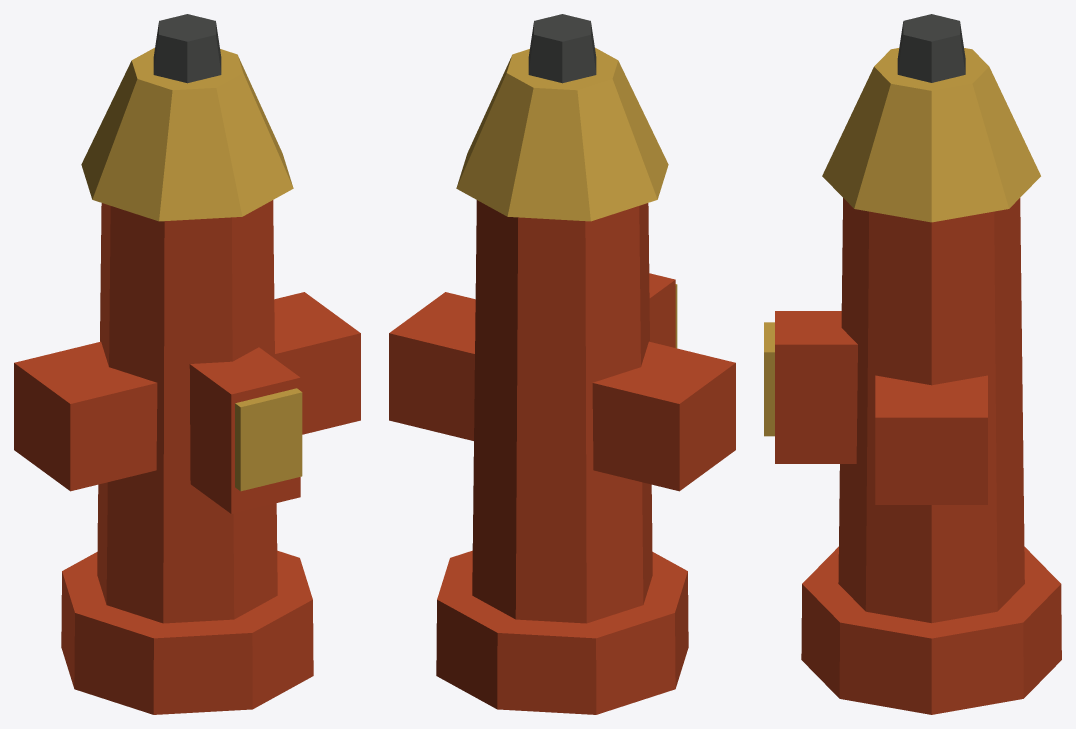
The model's file is hydrant.glb.
3 views of the same model, side by side, from view 1: azimuth 30°, elevation 25°; view 2: azimuth 150°, elevation 25°; view 3: azimuth 270°, elevation 25° (orthographic).
Parts seen in each view (by area): view 1: hydrant; view 2: hydrant; view 3: hydrant.
Boxes of the visible parts, box(x1,y1,x2,y2) form: hydrant: box(14, 14, 360, 714); hydrant: box(389, 14, 735, 714); hydrant: box(764, 14, 1061, 714).
Bounding box in the file's own units: 0.47 × 0.98 × 0.4185.
